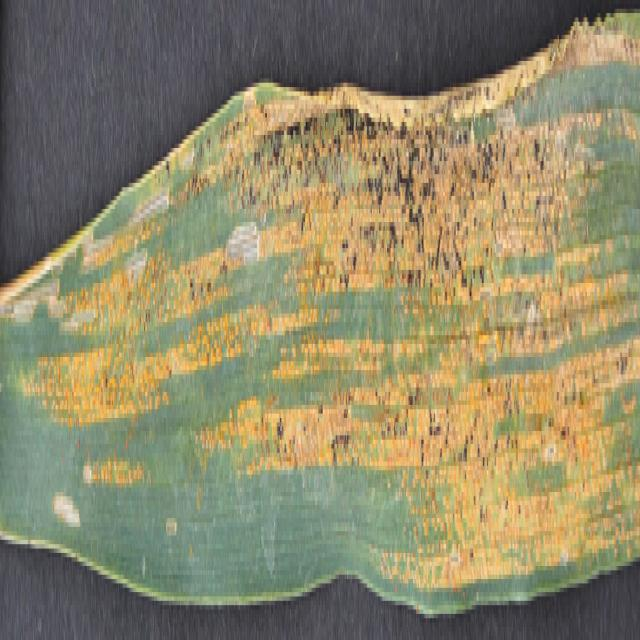leaf rust: (0, 17, 640, 596)
